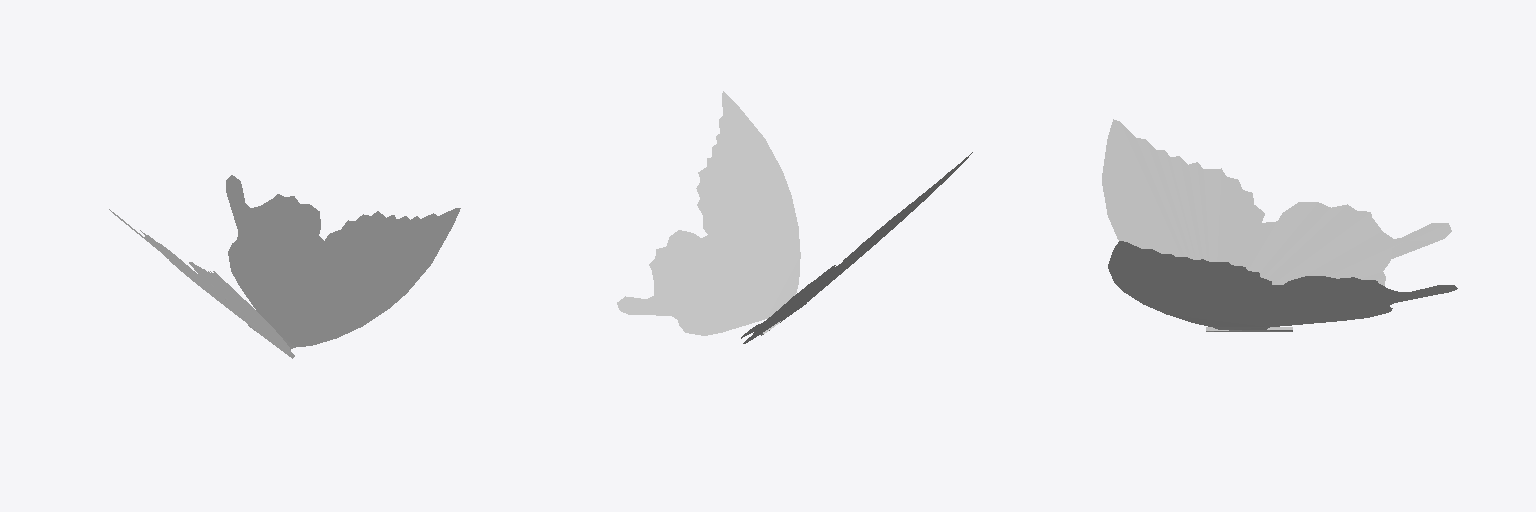
Rendered from mob_4.obj.
3 views of the same model, side by side, from view 1: azimuth 30°, elevation 25°; view 2: azimuth 150°, elevation 25°; view 3: azimuth 270°, elevation 25° (orthographic).
Parts seen in each view (by area): view 1: Cube; view 2: Cube; view 3: Cube.
Boxes of the visible parts, <box> form: Cube: <box>109,175,460,358</box>; Cube: <box>617,91,972,343</box>; Cube: <box>1102,119,1457,331</box>.
Bounding box in the file's own units: 1.58 × 0.9179 × 1.96.